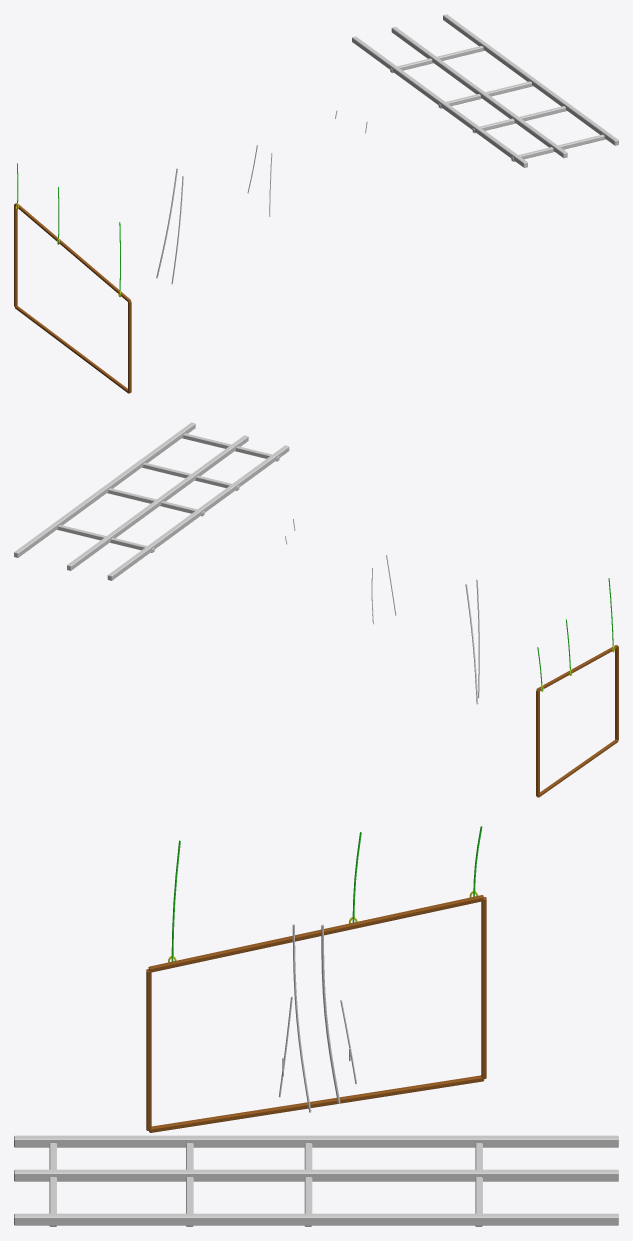
File: 05_Rigging_low.fbx
3 renders of one model, top to bottom at view 1: azimuth 30°, elevation 25°; view 2: azimuth 150°, elevation 25°; view 3: azimuth 270°, elevation 25°, orthographic. The views are drawn at different scales.
Parts seen in each view (by area): view 1: StageRigging_low, BackdropRigging_low; view 2: StageRigging_low, BackdropRigging_low, FlyRopes_low; view 3: StageRigging_low, BackdropRigging_low, FlyRopes_low.
Part boxes in pixels (x1=…): StageRigging_low: x1=352, y1=14, x2=618, y2=167; BackdropRigging_low: x1=14, y1=163, x2=131, y2=393; StageRigging_low: x1=14, y1=422, x2=289, y2=580; BackdropRigging_low: x1=536, y1=578, x2=618, y2=797; FlyRopes_low: x1=465, y1=579, x2=479, y2=704; StageRigging_low: x1=14, y1=1135, x2=618, y2=1226; BackdropRigging_low: x1=146, y1=826, x2=486, y2=1132; FlyRopes_low: x1=292, y1=924, x2=340, y2=1112.
Size of the model in its own units: 2025 by 1280 by 726.
